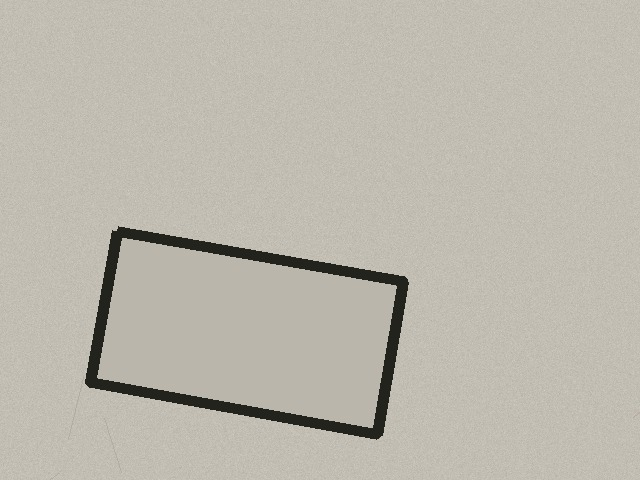parking_area: (90, 231, 403, 434)
